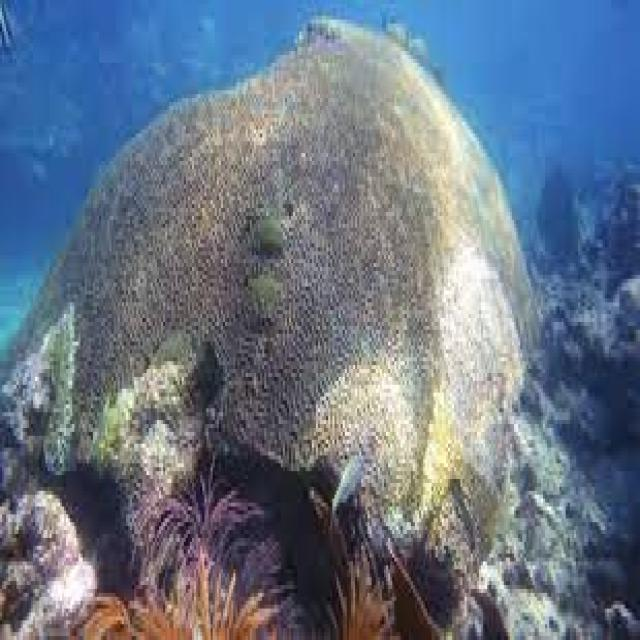Coral: (1, 13, 546, 597)
